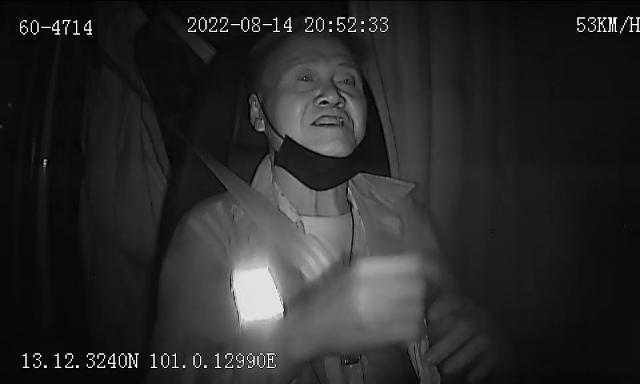SafeDriving: (288, 66, 322, 92), (330, 65, 360, 94)
Seatbelt: (196, 150, 302, 266)
